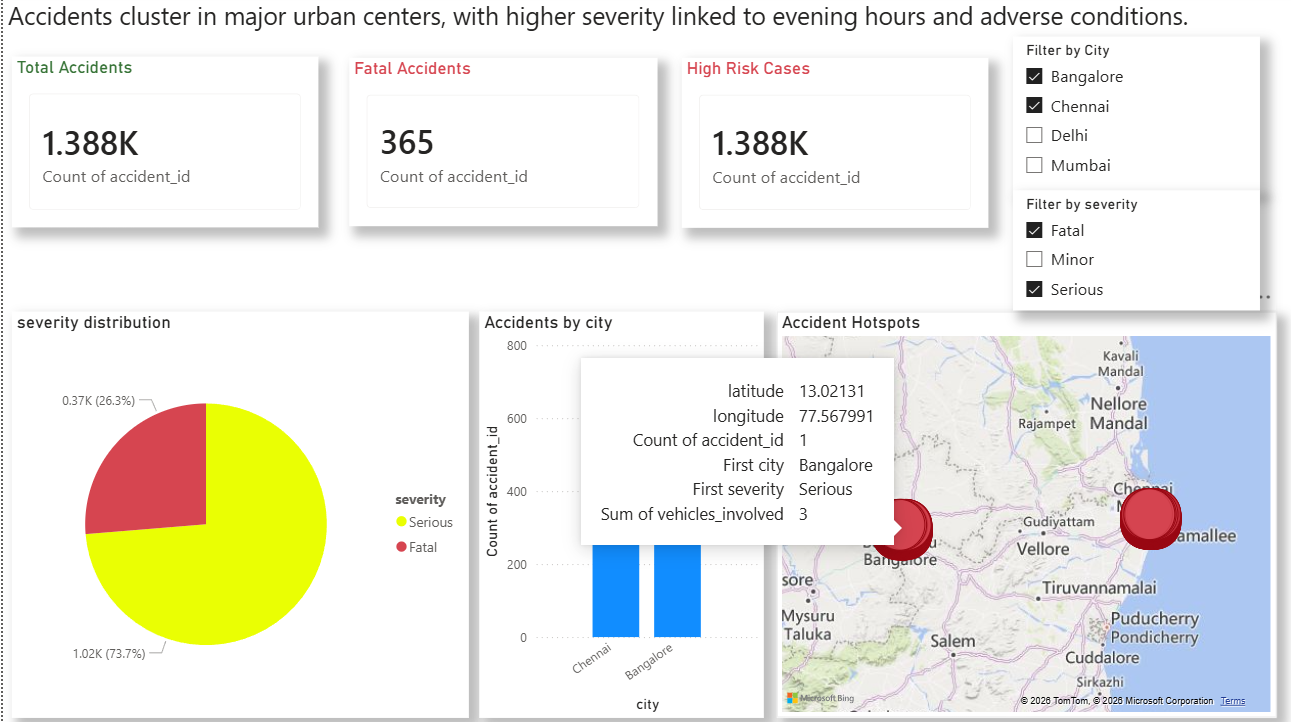

The dashboard page shown, as its layout file describes it:
{"tool":"powerbi","page":{"name":"Overview","canvas":[1280,720],"ordinal":1},"visuals":[{"type":"cardVisual","title":"Total Accidents","fields":{"Data":["CountNonNull(road_safety_db risk_analysis.accident_id)"]},"box":[8.8,61.2,300,167.5],"z":0},{"type":"cardVisual","title":"Fatal Accidents","fields":{"Data":["CountNonNull(road_safety_db risk_analysis.accident_id)"]},"box":[338.8,62.5,301.2,165],"z":1000},{"type":"cardVisual","title":"High Risk Cases","fields":{"Data":["CountNonNull(road_safety_db risk_analysis.accident_id)"]},"box":[663.8,62.5,300,166.2],"z":2000},{"type":"pieChart","title":"severity distribution","fields":{"Category":["road_safety_db risk_analysis.severity"],"Y":["CountNonNull(road_safety_db risk_analysis.accident_id)"]},"box":[8.8,310,447.5,397.5],"z":3000},{"type":"clusteredColumnChart","title":"Accidents by city","fields":{"Category":["road_safety_db risk_analysis.city"],"Y":["CountNonNull(road_safety_db risk_analysis.accident_id)"]},"box":[466.2,310,278.8,397.5],"z":4000},{"type":"map","title":"Accident Hotspots","fields":{"Y":["road_safety_db risk_analysis.latitude"],"X":["road_safety_db risk_analysis.longitude"],"Size":["CountNonNull(road_safety_db risk_analysis.accident_id)"]},"box":[757.5,310,488.8,397.5],"z":5000},{"type":"textbox","box":[0,0,1280,51.2],"z":6000},{"type":"slicer","fields":{"Values":["road_safety_db risk_analysis.city"]},"box":[987.5,41.2,241.2,151.2],"z":7000},{"type":"slicer","fields":{"Values":["road_safety_db risk_analysis.severity"]},"box":[987.5,192.5,241.2,117.5],"z":8000}]}

Visuals, with their boxes in screenshot pixels (x1, y1, x2, y2), scaled from the page's 1280x720 canvas onto the 1291x722 screenshot:
"Total Accidents" cardVisual: bbox(9, 61, 311, 229)
"Fatal Accidents" cardVisual: bbox(342, 63, 646, 228)
"High Risk Cases" cardVisual: bbox(670, 63, 972, 229)
"severity distribution" pieChart: bbox(9, 311, 460, 709)
"Accidents by city" clusteredColumnChart: bbox(470, 311, 751, 709)
"Accident Hotspots" map: bbox(764, 311, 1257, 709)
textbox: bbox(0, 0, 1290, 51)
slicer - road_safety_db risk_analysis.city: bbox(996, 41, 1239, 193)
slicer - road_safety_db risk_analysis.severity: bbox(996, 193, 1239, 311)
